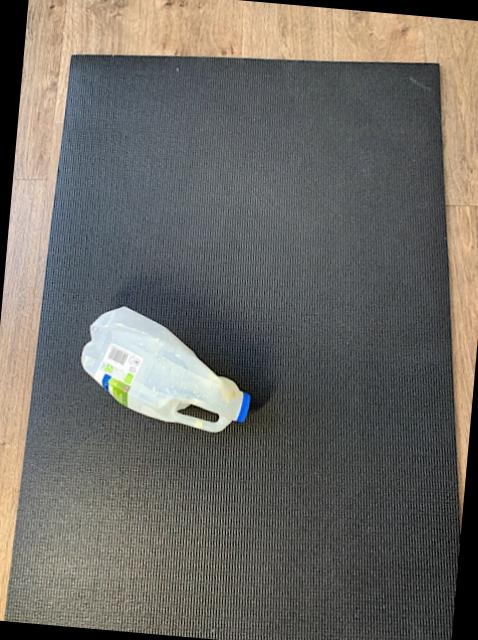plastic: (81, 304, 250, 428)
